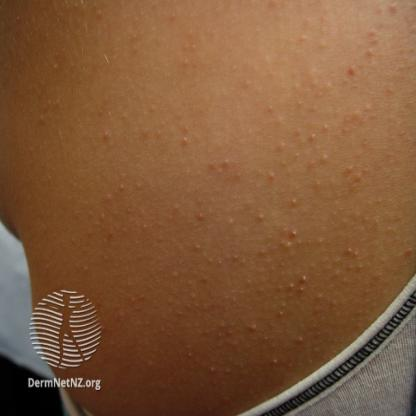Chicken Skin: (102, 15, 394, 307)
